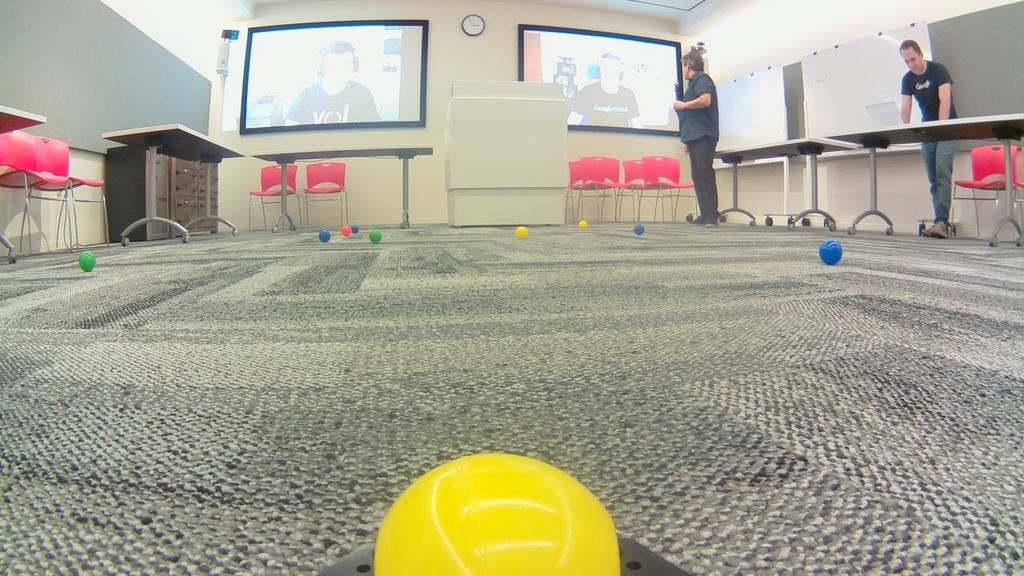ball: (340, 226, 351, 238)
